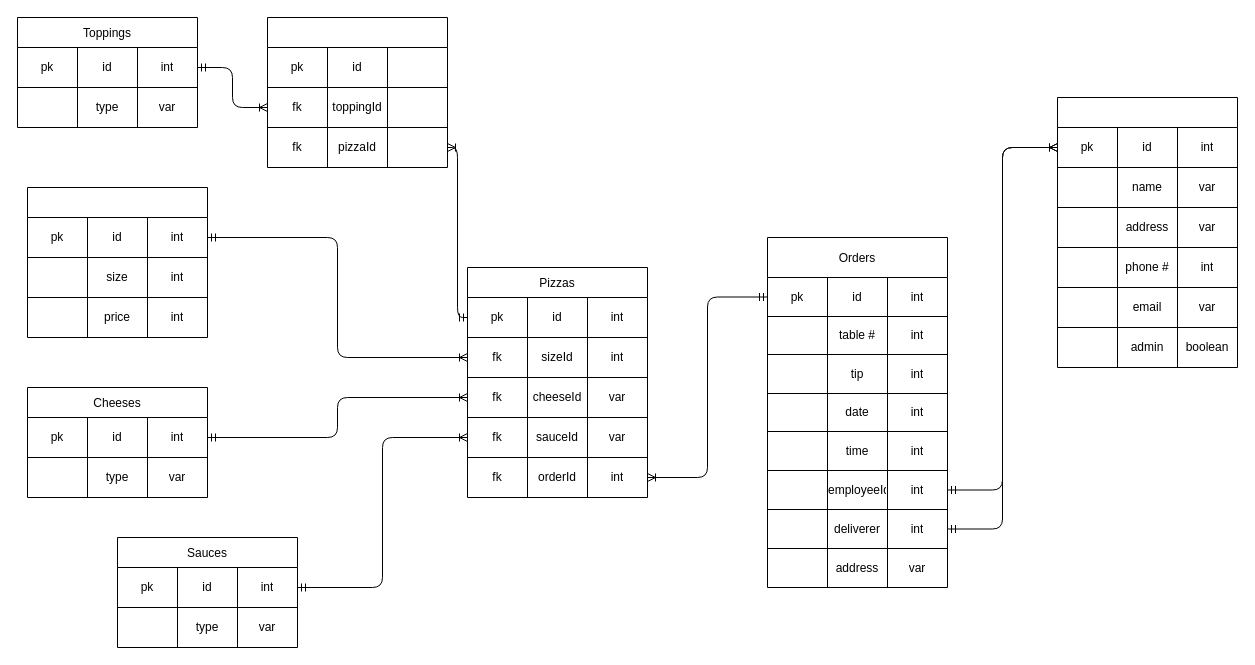
The diagram is 1255 pixels wide and 665 high, and some of its shapes have lost their labels. The box of each missing label's shape, as (x1, y1, x2, y2) in pixels:
Employees: (1056, 96, 1238, 368)
Pizza Toppings: (266, 16, 448, 168)
Sizes: (26, 186, 208, 338)
